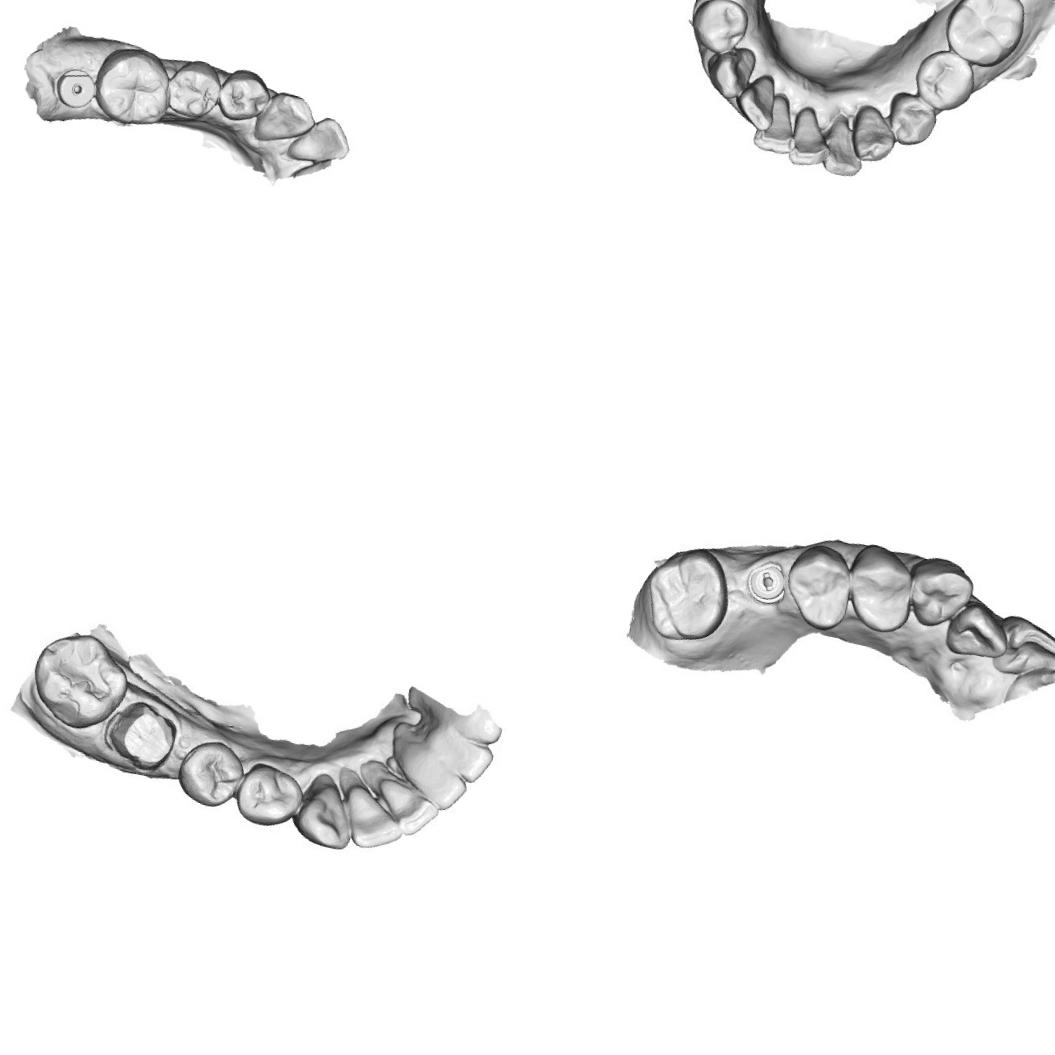canine: (903, 552, 978, 636), (296, 770, 357, 856), (251, 86, 322, 152), (846, 102, 903, 168), (704, 41, 760, 103)
crown: (96, 690, 183, 781)
implant: (52, 62, 102, 111)
implant_minus: (740, 556, 794, 610)
incisor: (394, 735, 472, 814), (941, 596, 1017, 666), (340, 776, 405, 854), (418, 728, 498, 790), (990, 611, 1055, 687), (283, 108, 358, 172), (372, 770, 442, 838), (785, 102, 836, 172), (817, 114, 871, 180), (750, 94, 803, 158), (732, 68, 782, 132)
molar: (636, 536, 740, 652), (30, 630, 130, 733), (88, 38, 178, 134), (937, 0, 1036, 72)
premolar: (838, 538, 924, 639), (777, 538, 861, 636), (175, 731, 246, 813), (234, 758, 308, 830), (906, 43, 979, 114), (162, 54, 226, 126), (214, 63, 277, 129), (683, 0, 754, 58), (880, 87, 943, 152)
